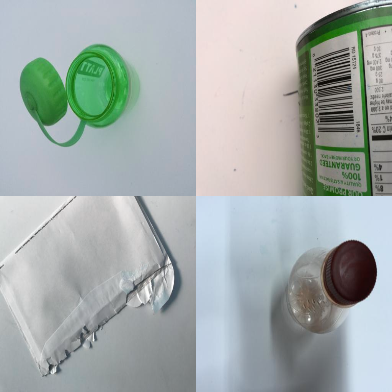metal: (296, 1, 392, 194)
paper: (1, 195, 175, 378)
plastic: (20, 43, 141, 148), (285, 238, 377, 333)
